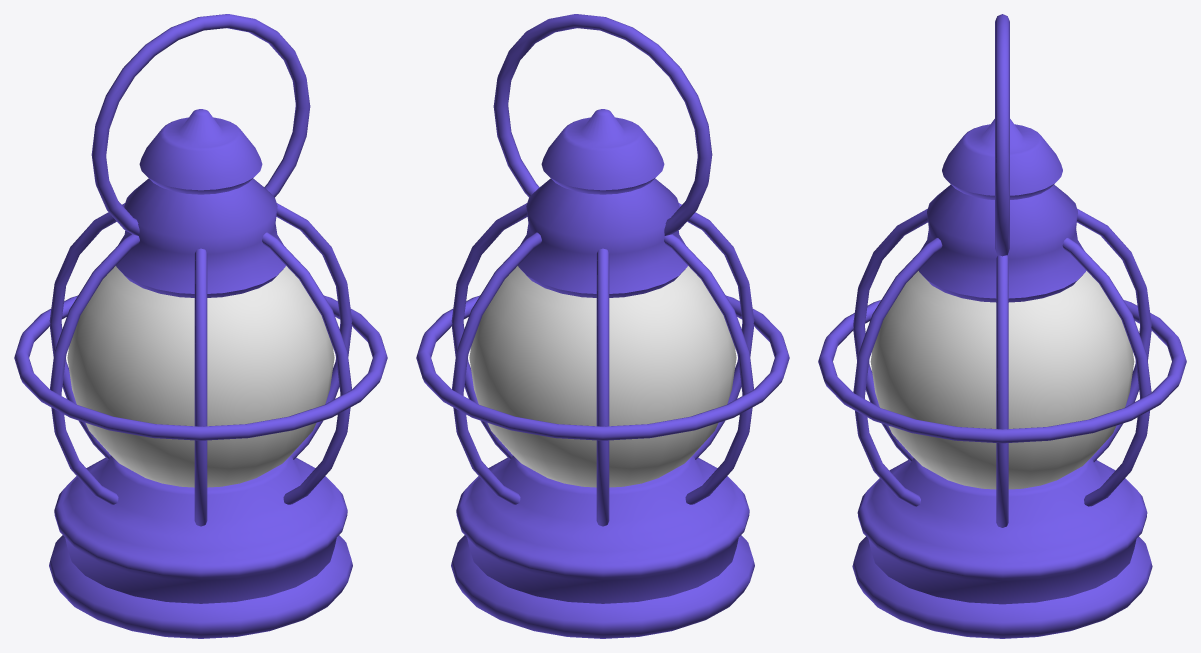
The model's file is Lighter.fbx.
The picture shows the model from 3 angles, left to right: view 1: azimuth 30°, elevation 25°; view 2: azimuth 150°, elevation 25°; view 3: azimuth 270°, elevation 25°; orthographic projection.
Parts seen in each view (by area): view 1: Cylinder.013; view 2: Cylinder.013; view 3: Cylinder.013.
Part boxes in pixels (bbox=[...]): Cylinder.013: bbox=[14, 14, 387, 638]; Cylinder.013: bbox=[416, 14, 789, 638]; Cylinder.013: bbox=[818, 14, 1186, 638].
Size of the model in its own units: 29.8 by 49.62 by 29.8.
